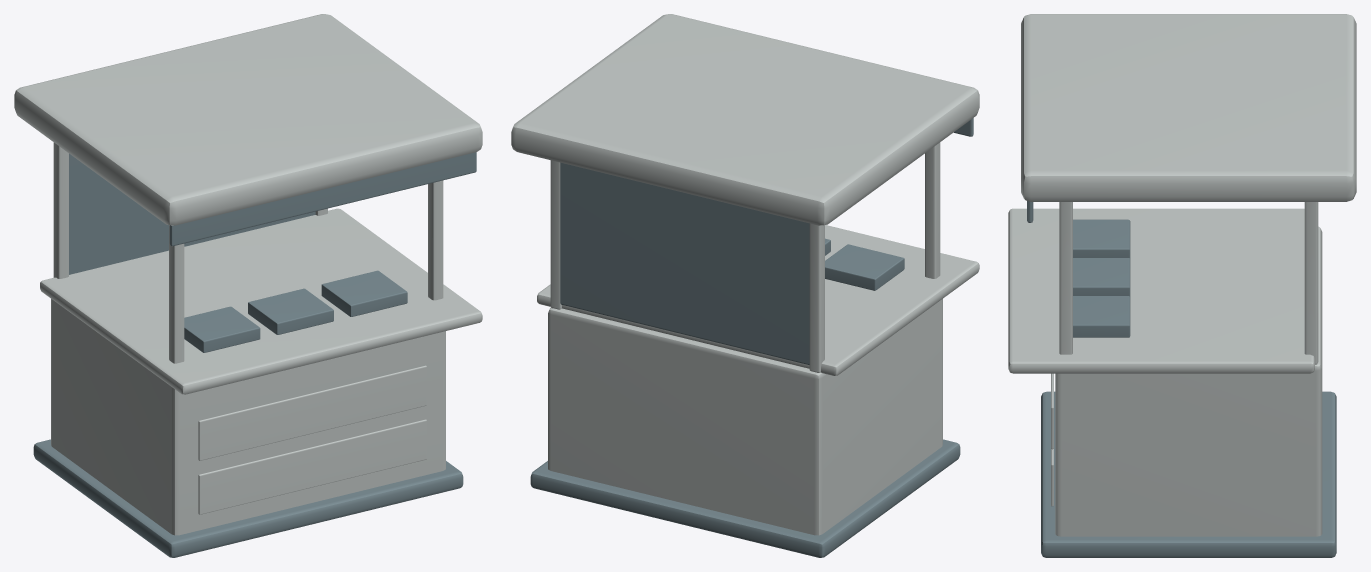
File: kiosk.glb
3 renders of one model, left to right at view 1: azimuth 30°, elevation 25°; view 2: azimuth 150°, elevation 25°; view 3: azimuth 270°, elevation 25°, orthographic. The views are drawn at different scales.
Parts seen in each view (by area): view 1: canopy, lower_counter, counter_lip, base, front_panel, front_panel.001, rear_wall, fascia, display_stack.002, display_stack.001, display_stack, corner_post (+2 smaller); view 2: lower_counter, canopy, rear_wall, counter_lip, base, display_stack, corner_post, corner_post.001, corner_post.002; view 3: canopy, lower_counter, counter_lip, base, display_stack.002, corner_post.002, display_stack, display_stack.001, corner_post.003.
Part boxes in pixels (bbox=[...]): canopy: bbox=[14, 14, 482, 225]; lower_counter: bbox=[51, 299, 445, 535]; counter_lip: bbox=[40, 208, 482, 394]; base: bbox=[33, 439, 463, 557]; front_panel: bbox=[198, 419, 426, 514]; front_panel.001: bbox=[198, 365, 426, 460]; rear_wall: bbox=[69, 153, 315, 274]; fascia: bbox=[169, 152, 476, 246]; display_stack.002: bbox=[321, 270, 407, 316]; display_stack.001: bbox=[248, 288, 333, 334]; display_stack: bbox=[184, 306, 260, 352]; corner_post: bbox=[53, 142, 68, 278]; lower_counter: bbox=[548, 299, 942, 535]; canopy: bbox=[511, 14, 979, 225]; rear_wall: bbox=[560, 162, 809, 364]; counter_lip: bbox=[537, 225, 979, 375]; base: bbox=[530, 439, 960, 557]; display_stack: bbox=[825, 244, 904, 290]; corner_post: bbox=[809, 223, 824, 372]; corner_post.001: bbox=[925, 142, 940, 278]; corner_post.002: bbox=[550, 160, 561, 309]; canopy: bbox=[1021, 14, 1356, 201]; lower_counter: bbox=[1055, 226, 1322, 536]; counter_lip: bbox=[1008, 208, 1314, 373]; base: bbox=[1041, 391, 1336, 557]; display_stack.002: bbox=[1073, 296, 1130, 337]; corner_post.002: bbox=[1304, 202, 1318, 364]; display_stack: bbox=[1073, 219, 1130, 258]; display_stack.001: bbox=[1073, 258, 1130, 296]; corner_post.003: bbox=[1059, 202, 1072, 354].
Size of the model in its own units: 2.16 by 2.39 by 1.93.
